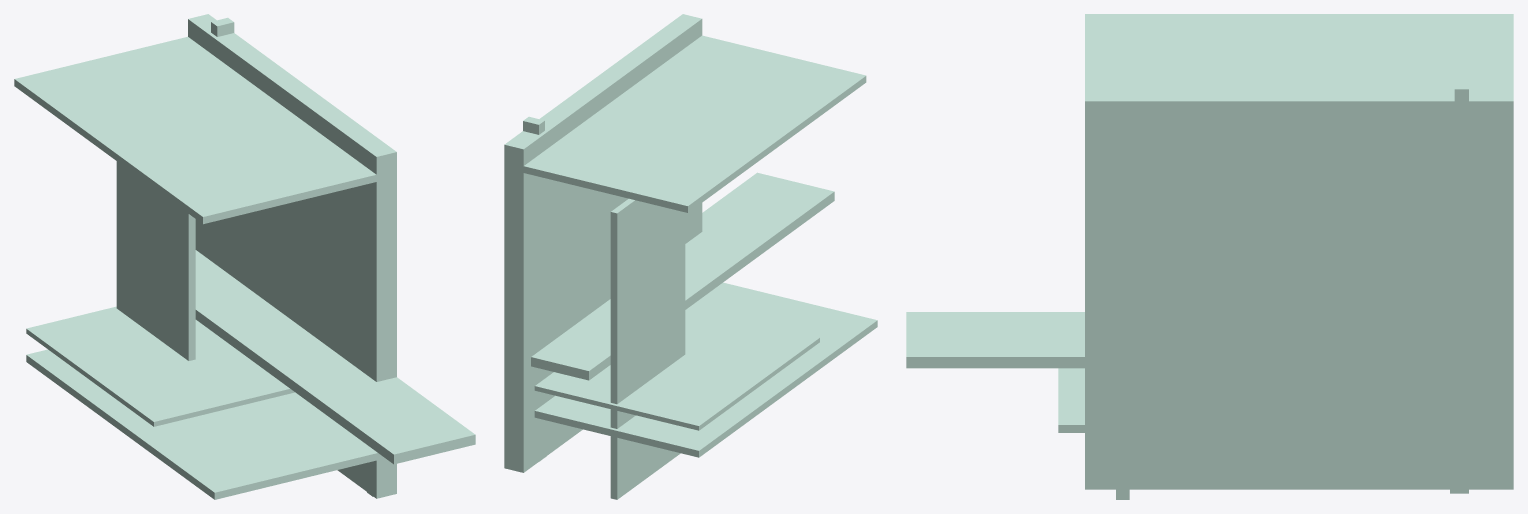
3 views of the same model, side by side, from view 1: azimuth 30°, elevation 25°; view 2: azimuth 150°, elevation 25°; view 3: azimuth 270°, elevation 25° (orthographic). The views are drawn at different scales.
Parts seen in each view (by area): view 1: Renderer Node; view 2: Renderer Node; view 3: Renderer Node.
Part boxes in pixels (<box>): Renderer Node: <box>14,14,475,499</box>; Renderer Node: <box>504,14,877,499</box>; Renderer Node: <box>906,14,1513,499</box>.
Bounding box in the file's own units: 0.4453 × 0.8125 × 1.06.
